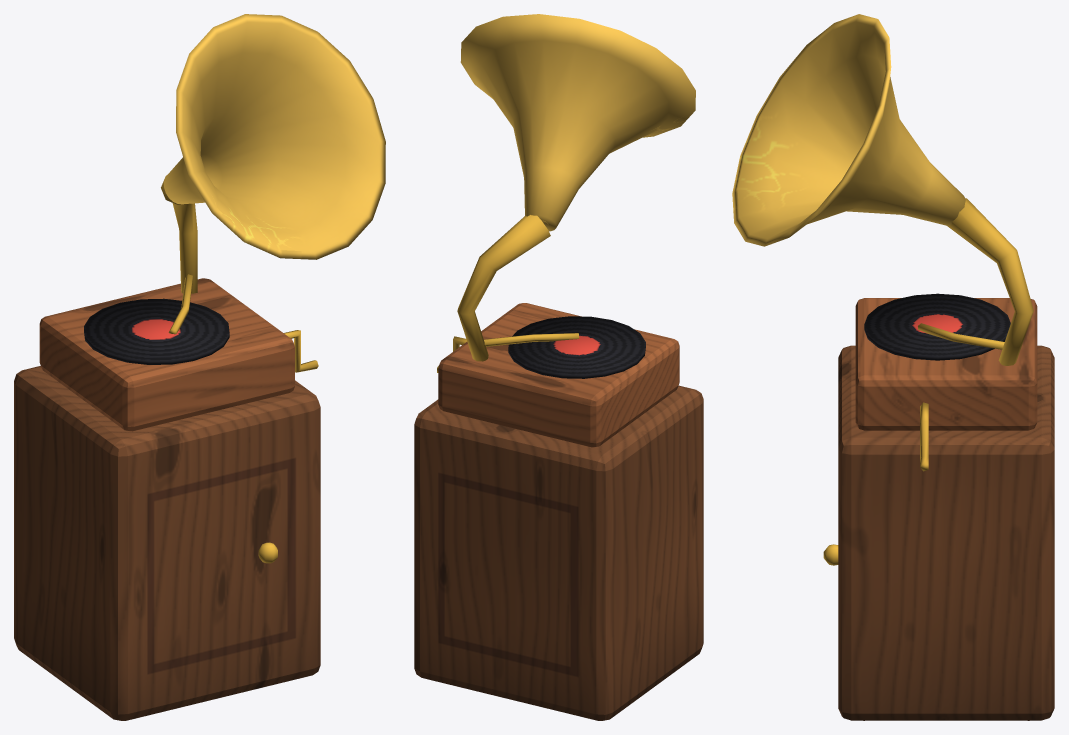
The model's file is gramophone.glb.
3 views of the same model, side by side, from view 1: azimuth 30°, elevation 25°; view 2: azimuth 150°, elevation 25°; view 3: azimuth 270°, elevation 25° (orthographic). The views are drawn at different scales.
Parts seen in each view (by area): view 1: Gramophone; view 2: Gramophone; view 3: Gramophone.
Boxes of the visible parts, x1=… form: Gramophone: x1=14, y1=14, x2=385, y2=720; Gramophone: x1=414, y1=14, x2=703, y2=720; Gramophone: x1=732, y1=14, x2=1054, y2=720.
Bounding box in the file's own units: 0.6952 × 1.68 × 0.7446.
Materials: 1 (1 with a texture image).
